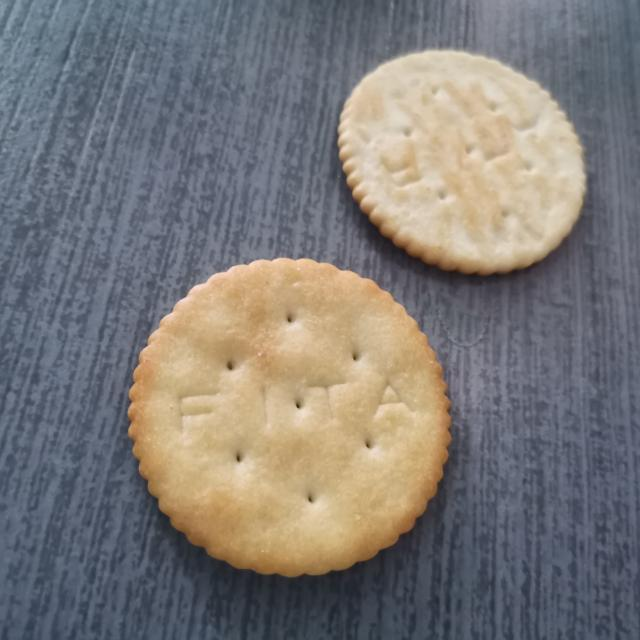Intact: (120, 253, 461, 584), (330, 43, 598, 286)
